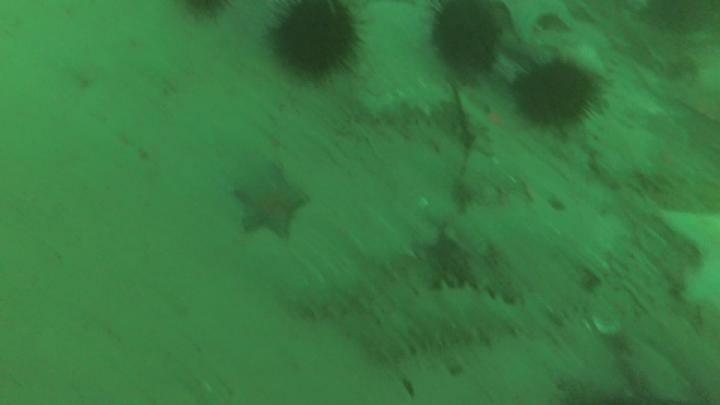echinus: (268, 1, 358, 77), (512, 62, 594, 127), (431, 3, 499, 78)
holothurian: (367, 285, 526, 365), (279, 261, 386, 319), (356, 85, 459, 120)
scallop: (594, 311, 621, 338)
starfish: (233, 168, 307, 239)
